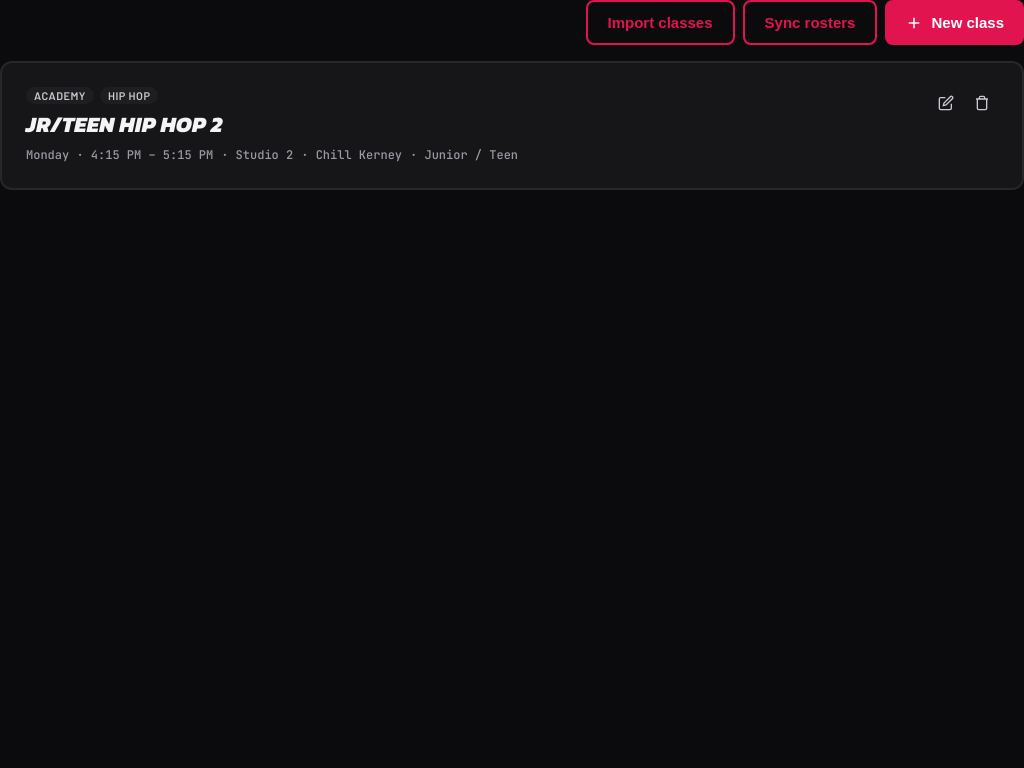
it: open and save without touching anything › shows every stored value in its own field
Step 1. Click the button named "Edit Jr/Teen Hip Hop 2" → coordinates (946, 103), box left=930, top=87, right=962, bottom=119
(page scrolled)
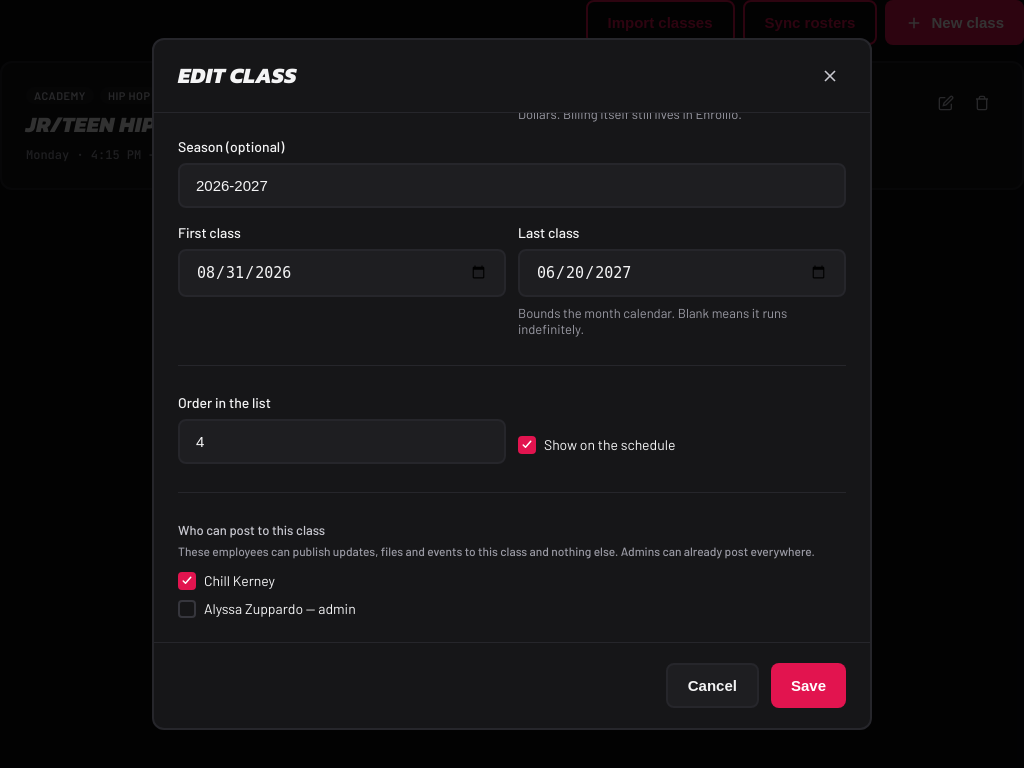
Expected: the field labelled "Season (optional)" holds "2026-2027", left=178, top=163, right=846, bottom=208
Expected: the date field labelled "First class" holds "2026-08-31", left=178, top=249, right=506, bottom=297
Expected: the date field labelled "Last class" holds "2027-06-20", left=518, top=249, right=846, bottom=297
